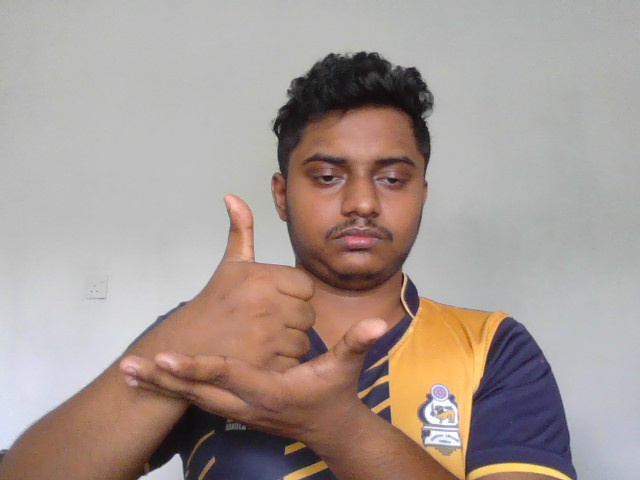Help: (117, 190, 392, 442)
